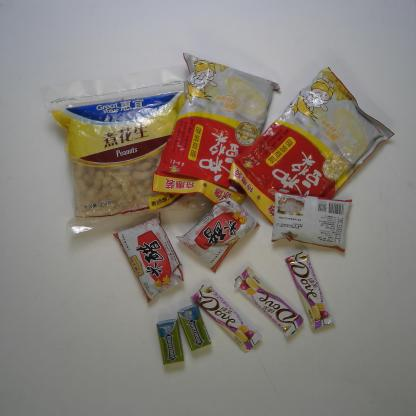Chocolate: (189, 282, 263, 355), (234, 267, 304, 338), (284, 249, 336, 331)
Dried Food: (41, 62, 211, 238)
Gum: (178, 303, 212, 351), (156, 318, 185, 366)
Instant Drink: (228, 66, 394, 230), (150, 52, 280, 210)
Seasoner: (175, 196, 260, 276), (112, 211, 184, 303), (272, 189, 353, 254)
